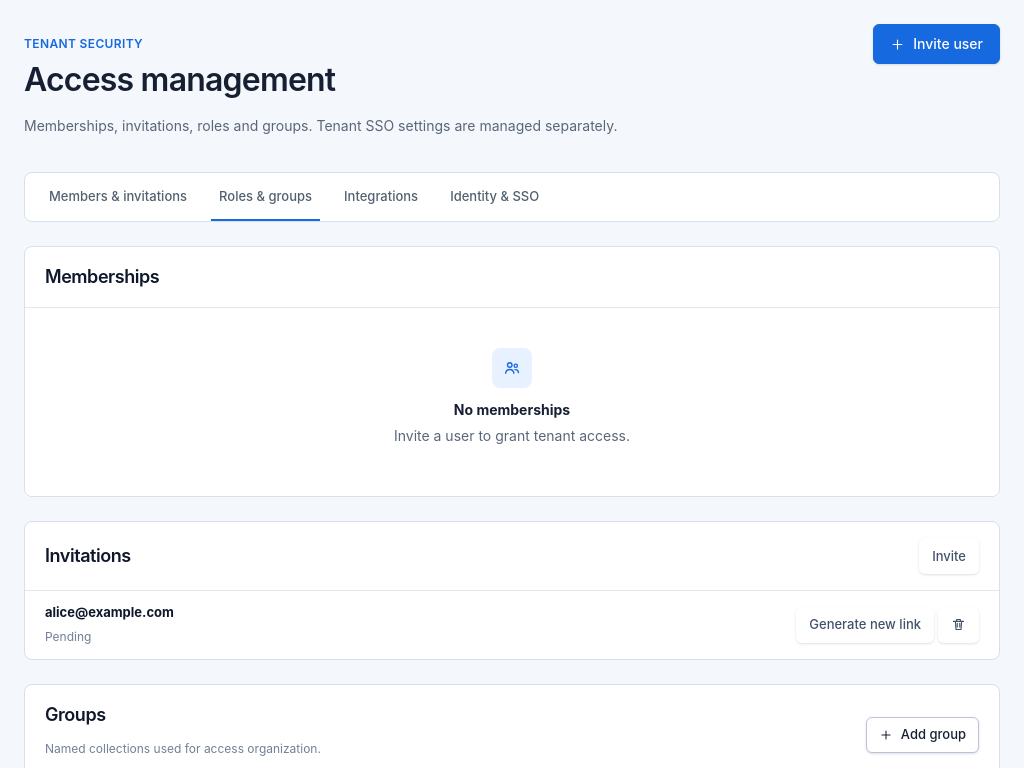
Test: regenerates a pending invitation link and therefore rotates its token
What coordinates should you click on to do the following:
click the button "Generate new link"
I would click on:
 (865, 625)
Its box is left=796, top=607, right=934, bottom=643.
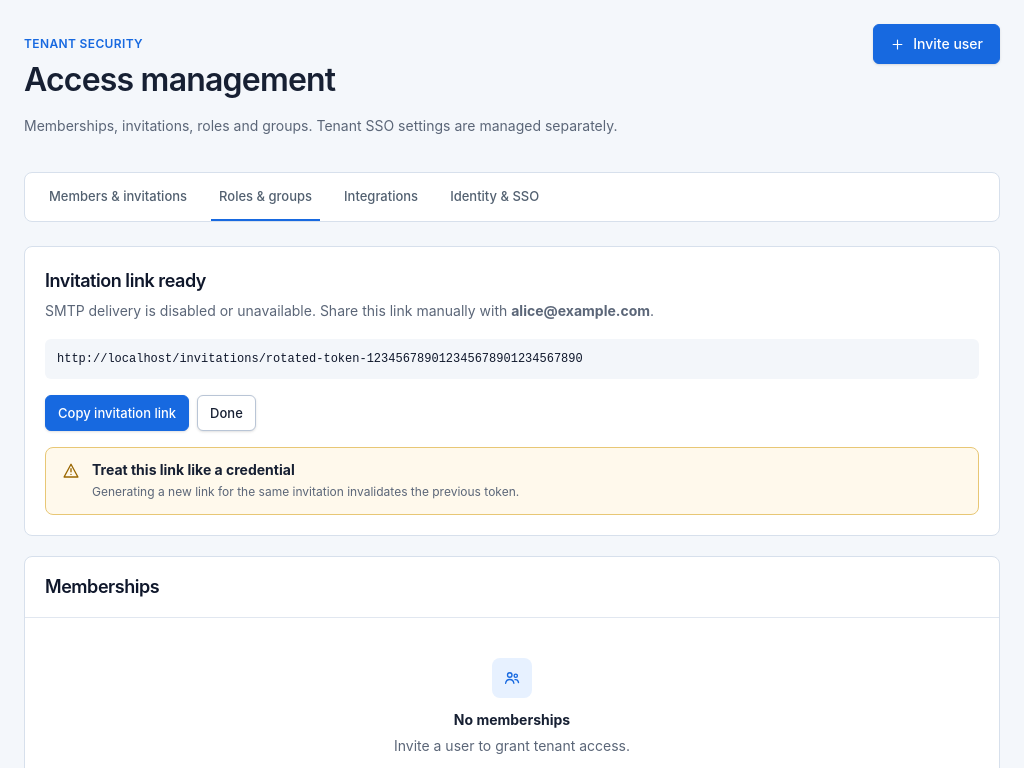
Now the text "/invitations/rotated-token-123456789012345678901234567890" is shown, box left=57, top=352, right=583, bottom=366
